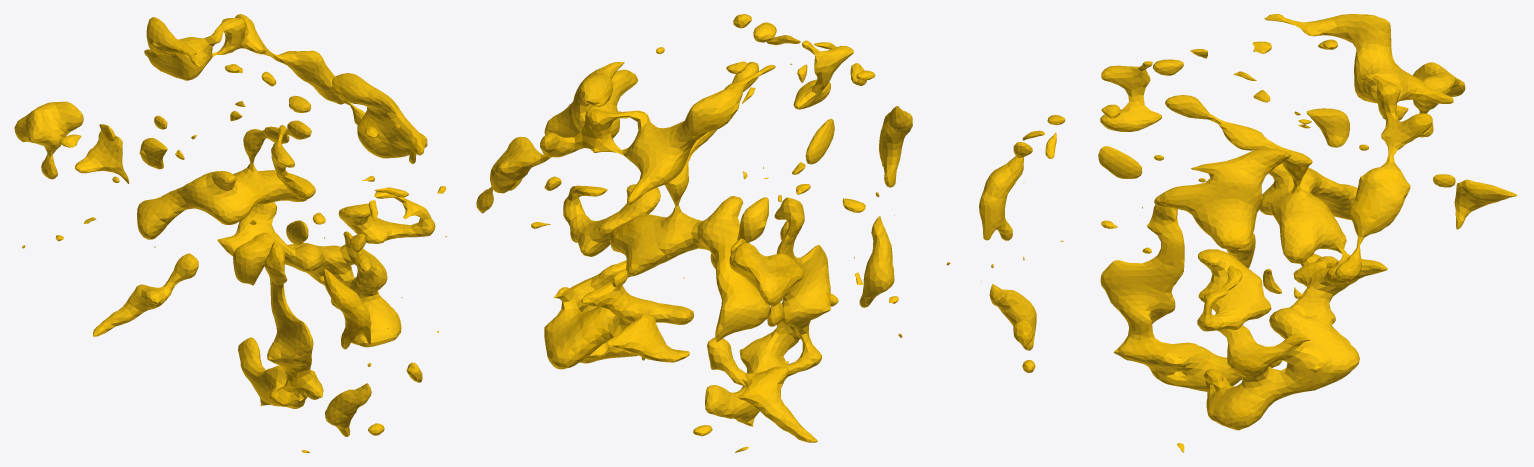
The model's file is case_12_penumbra.gltf.
3 renders of one model, left to right at view 1: azimuth 30°, elevation 25°; view 2: azimuth 150°, elevation 25°; view 3: azimuth 270°, elevation 25°, orthographic. The views are drawn at different scales.
Parts seen in each view (by area): view 1: penumbra; view 2: penumbra; view 3: penumbra.
Part boxes in pixels (<box>): penumbra: <box>14,14,446,452</box>; penumbra: <box>476,14,950,452</box>; penumbra: <box>979,14,1517,452</box>.
Bounding box in the file's own units: 1.59 × 1.6 × 1.94.
